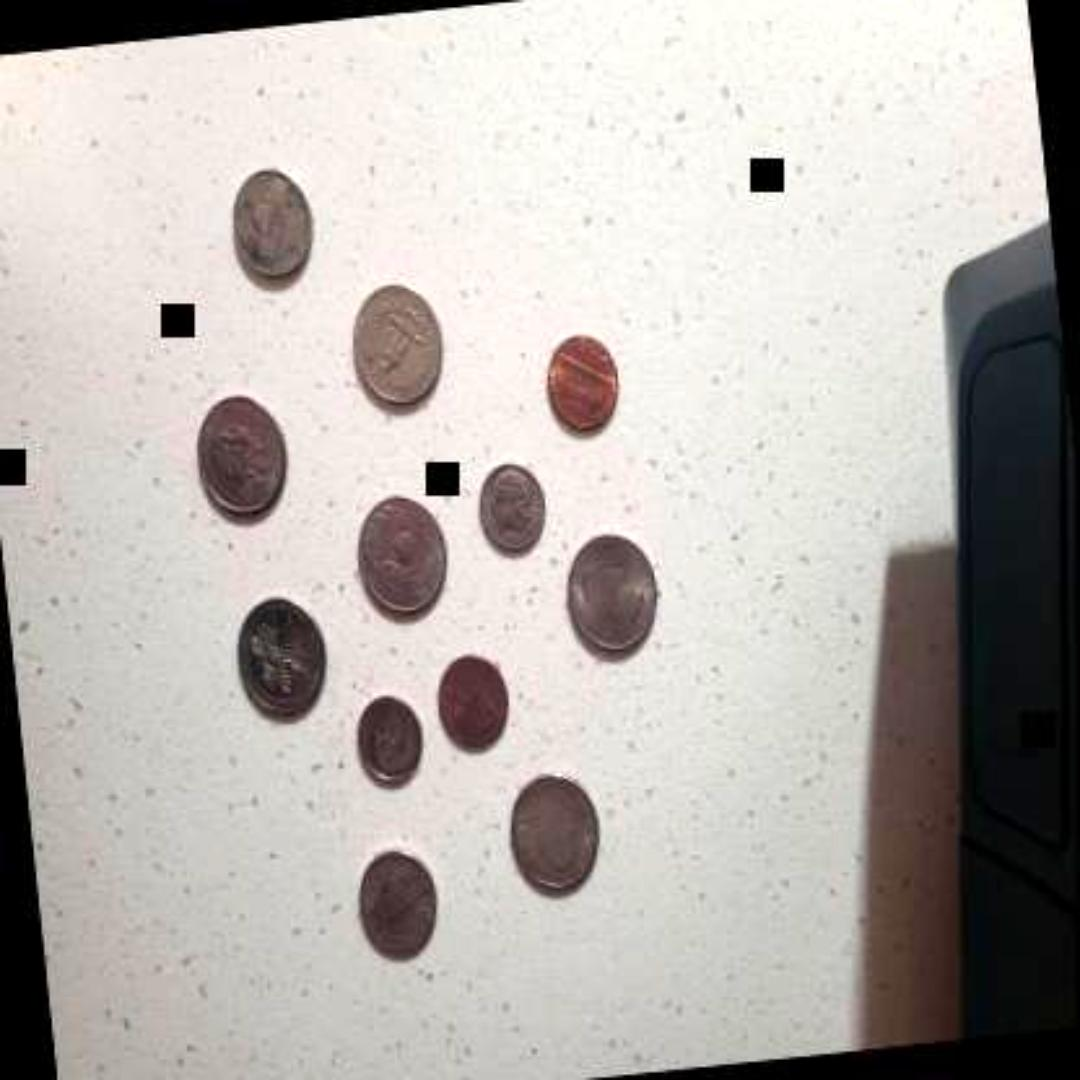Dime: (468, 456, 552, 566), (348, 688, 424, 790)
Nickel: (335, 824, 449, 986), (221, 168, 319, 288)
Penny: (530, 321, 631, 461), (532, 326, 625, 442), (428, 643, 512, 765)
Quarter: (180, 378, 296, 528), (492, 760, 606, 910), (340, 268, 450, 420), (558, 520, 667, 670), (346, 486, 456, 626), (223, 588, 329, 724)
